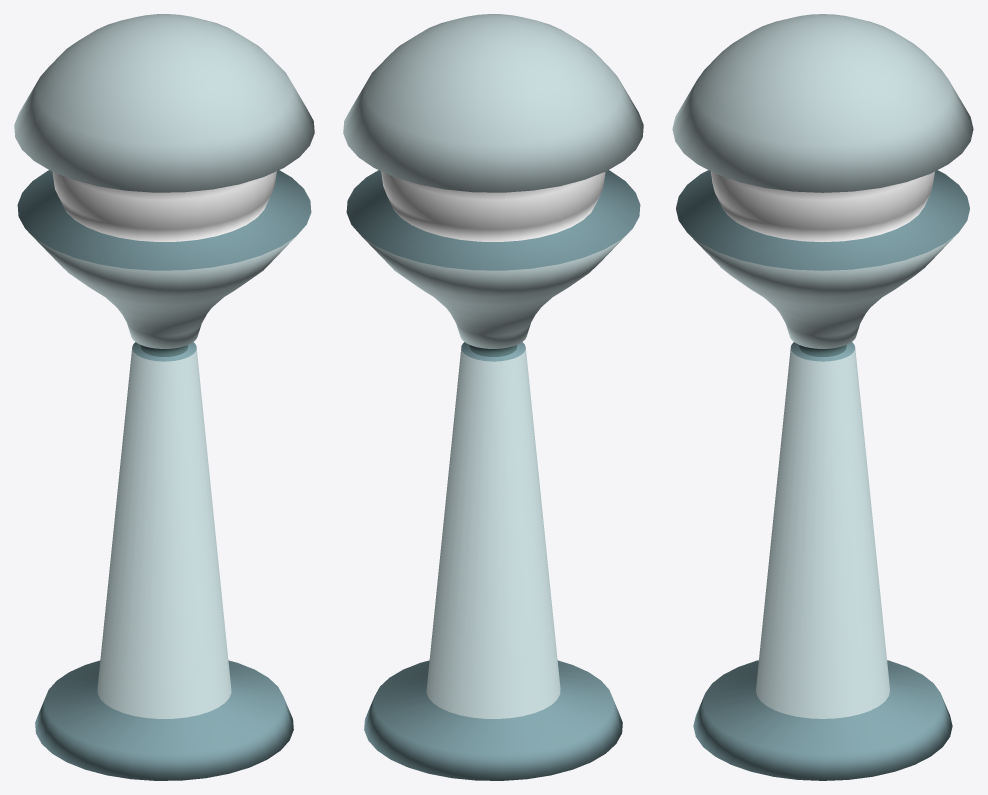
File: CPIndicqtor.fbx
3 renders of one model, left to right at view 1: azimuth 30°, elevation 25°; view 2: azimuth 150°, elevation 25°; view 3: azimuth 270°, elevation 25°, orthographic.
Parts seen in each view (by area): view 1: CPIndicator; view 2: CPIndicator; view 3: CPIndicator.
Boxes of the visible parts, box(x1,y1,x2,y2) form: CPIndicator: box(14, 14, 314, 780); CPIndicator: box(343, 14, 643, 780); CPIndicator: box(672, 14, 973, 780).
Size of the model in its own units: 3.59 by 3.59 by 9.24.
